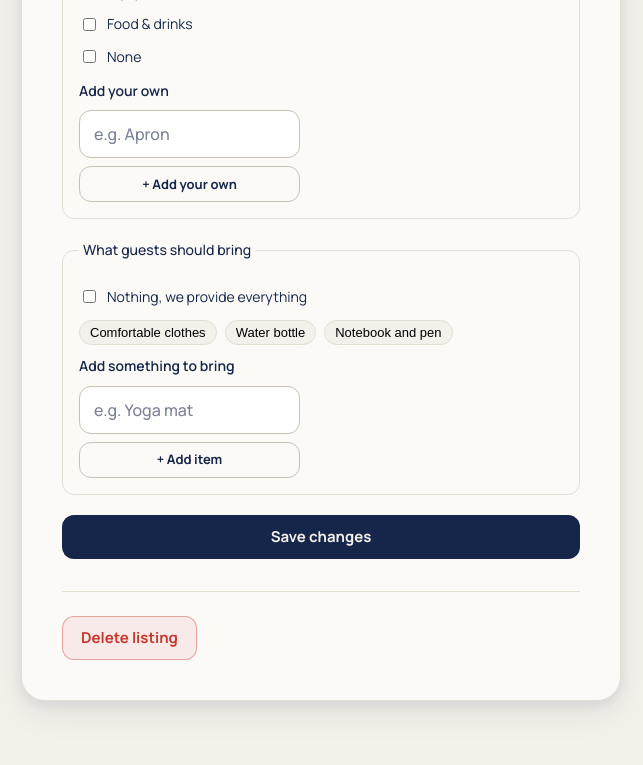
Test: EditListing saving › stays on the form when set_listing_spots fails
(page scrolled)
Click the button "Save changes" at (321, 536), box [62,514,580,558]
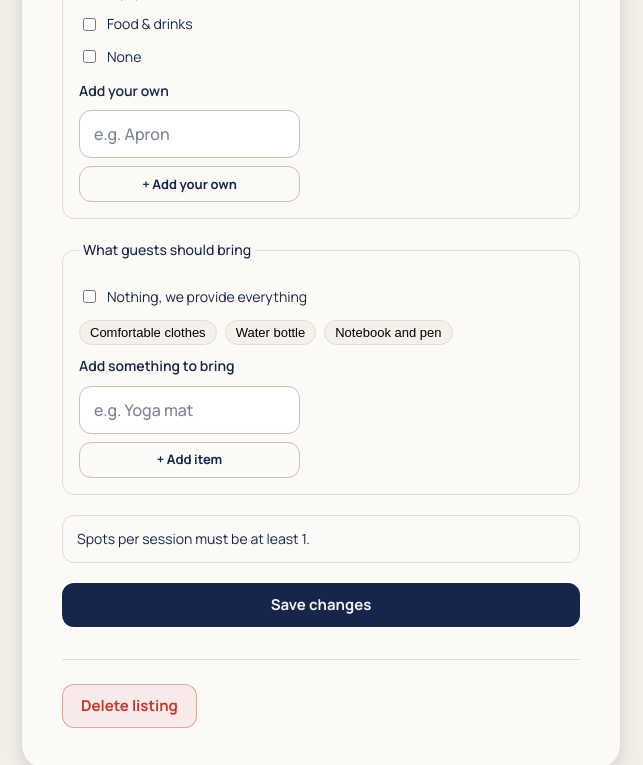
Expected: the text "Spots per session must be at least 1." is shown, [62,514,580,563]
